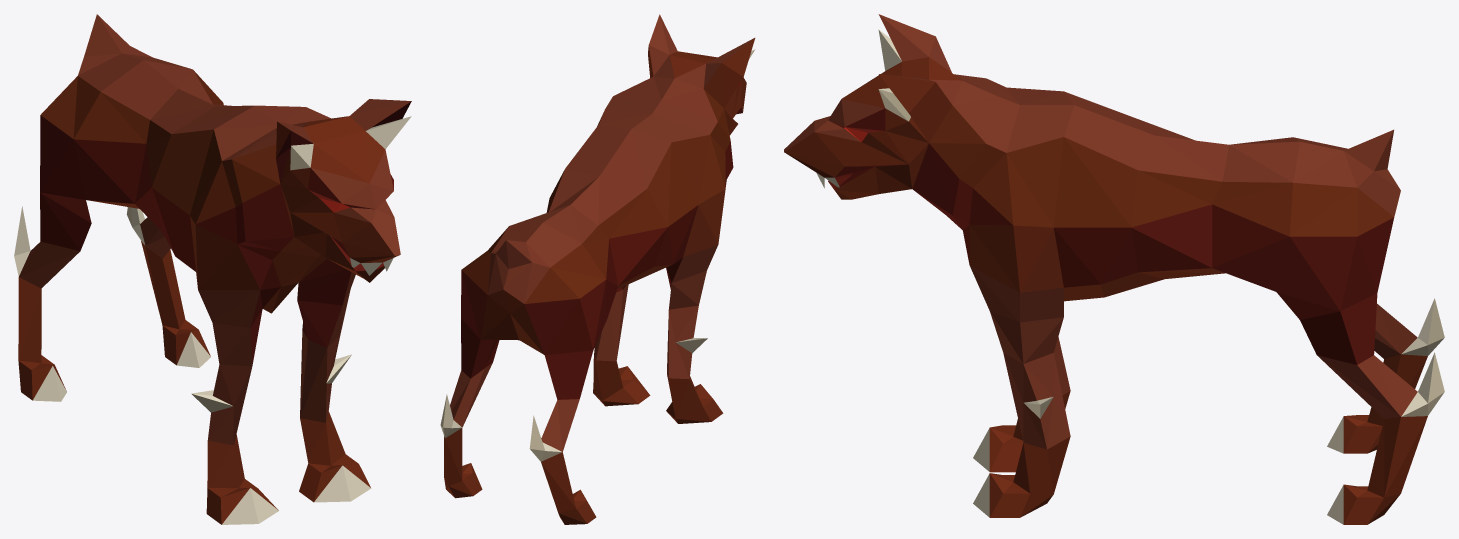
Rendered from hellhound.gltf.
The picture shows the model from 3 angles, left to right: view 1: azimuth 30°, elevation 25°; view 2: azimuth 150°, elevation 25°; view 3: azimuth 270°, elevation 25°; orthographic projection. The views are drawn at different scales.
Bounding box in the file's own units: 62 × 143 × 196.
Materials: 1 (1 with a texture image).
